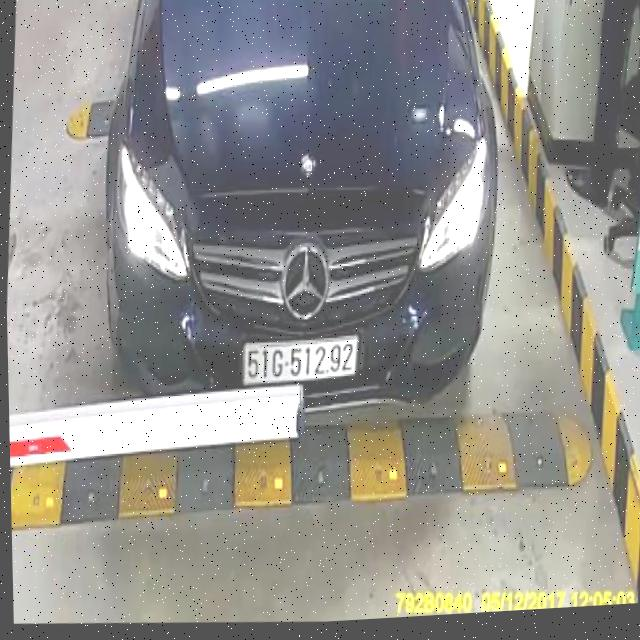car: (86, 0, 523, 448)
plate: (237, 328, 365, 393)
